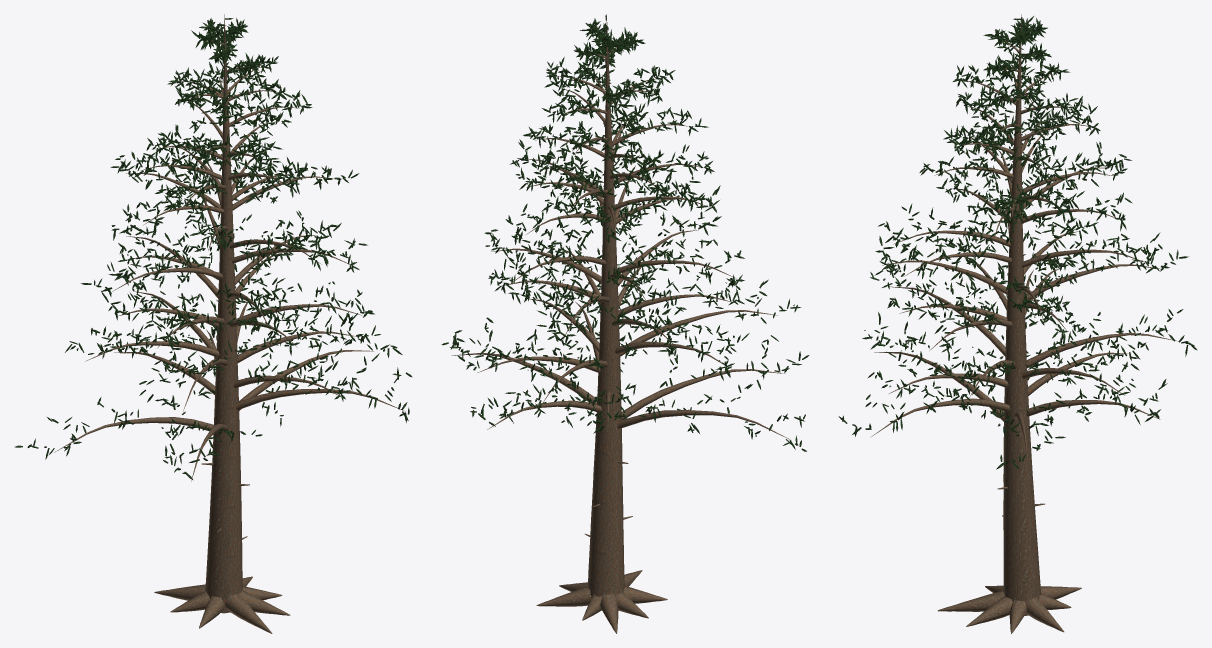
File: pine_mature_lod2.gltf
3 renders of one model, left to right at view 1: azimuth 30°, elevation 25°; view 2: azimuth 150°, elevation 25°; view 3: azimuth 270°, elevation 25°, orthographic.
Parts seen in each view (by area): view 1: pine_mature_lod2; view 2: pine_mature_lod2; view 3: pine_mature_lod2.
Boxes of the visible parts, left/top/right/bottom form: pine_mature_lod2: left=14, top=14, right=412, bottom=633; pine_mature_lod2: left=441, top=14, right=809, bottom=633; pine_mature_lod2: left=838, top=14, right=1197, bottom=633.
Size of the model in its own units: 7.91 by 12.01 by 6.59.
2 materials, 2 textured.
